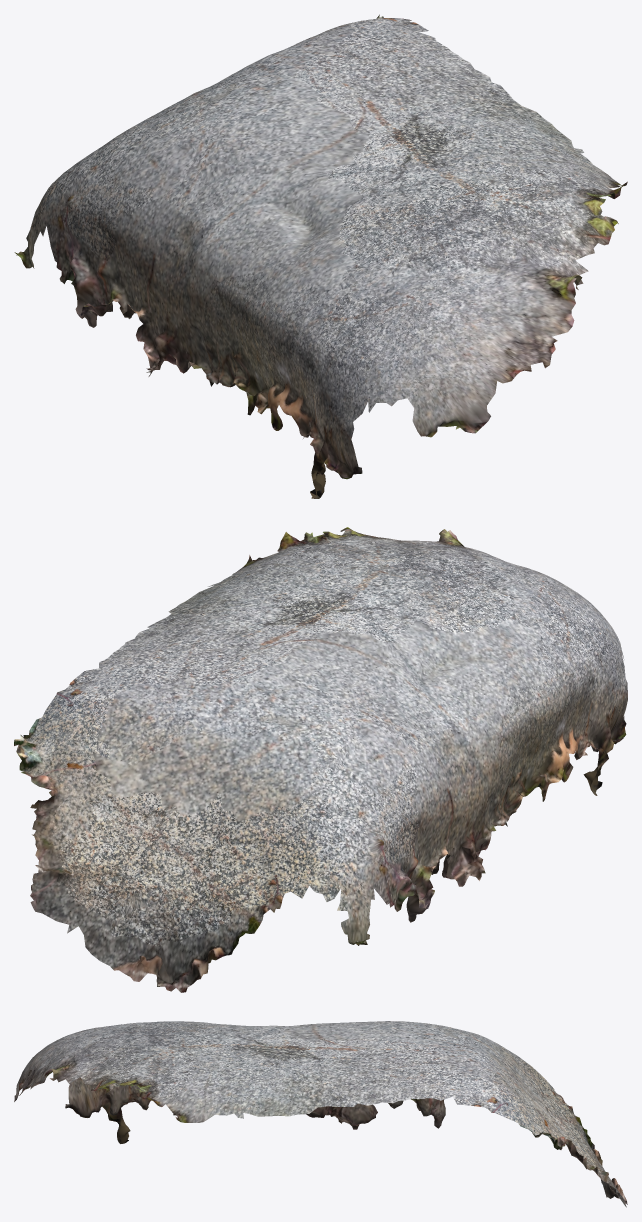
File: cleaned.fbx
3 views of the same model, one above another, from view 1: azimuth 30°, elevation 25°; view 2: azimuth 150°, elevation 25°; view 3: azimuth 270°, elevation 25° (orthographic). The views are drawn at different scales.
Visible parts, largest first — view 1: nodes[0]; view 2: nodes[0]; view 3: nodes[0].
Part boxes in pixels (x1,y1,x2,y2): nodes[0]: (14,14,627,498); nodes[0]: (14,527,627,992); nodes[0]: (14,1021,627,1207).
Size of the model in its own units: 66.84 by 40.05 by 126.
1 material, 1 textured.
